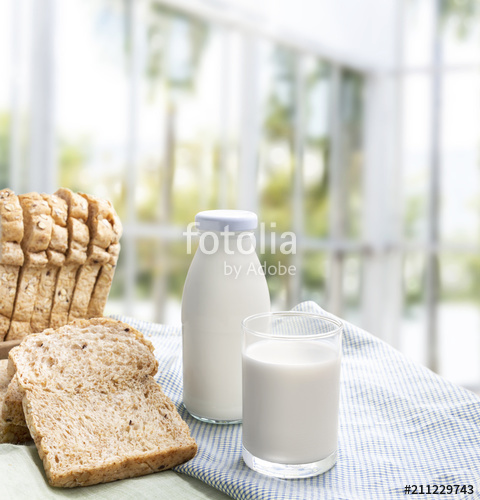glass of milk: (235, 301, 350, 484), (182, 206, 273, 431)
slice of bread: (10, 313, 204, 483), (3, 171, 123, 326)
